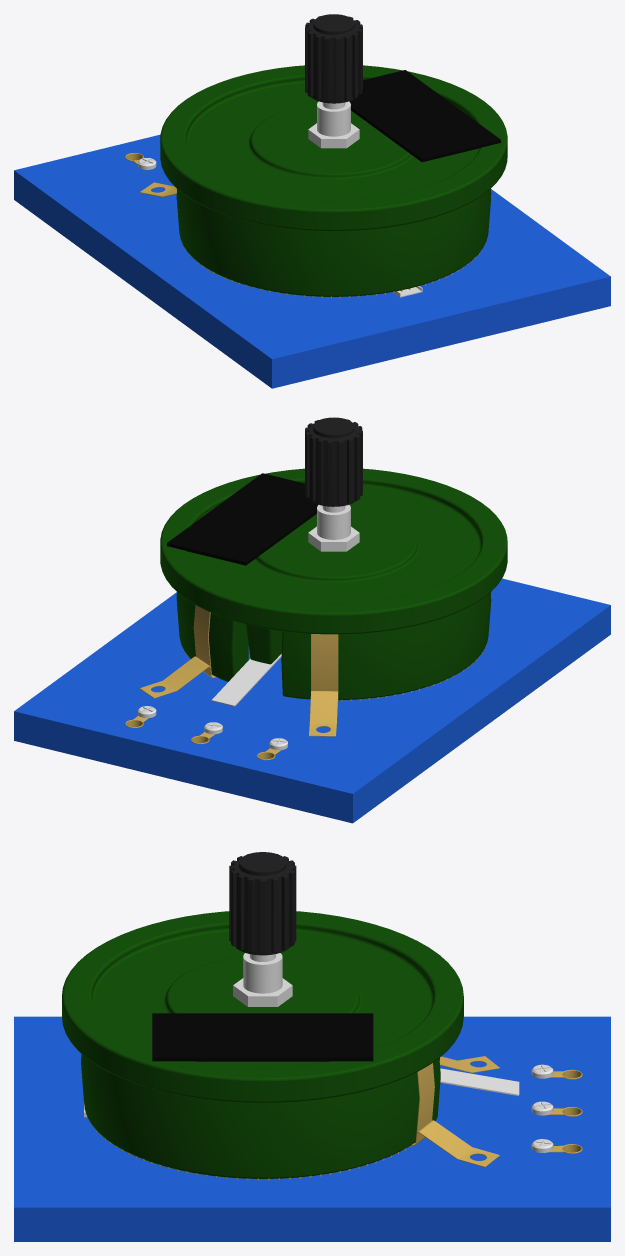
The model's file is reohord.fbx.
3 renders of one model, top to bottom at view 1: azimuth 30°, elevation 25°; view 2: azimuth 150°, elevation 25°; view 3: azimuth 270°, elevation 25°, orthographic. The views are drawn at different scales.
Visible parts, largest first — view 1: Body, Screen, Knob; view 2: Body, Screen, Knob; view 3: Body, Screen, Knob.
Boxes of the visible parts, <box> form: Body: <box>14,65,610,388</box>; Screen: <box>349,70,500,162</box>; Knob: <box>305,14,422,297</box>; Body: <box>14,468,610,823</box>; Screen: <box>167,473,318,565</box>; Knob: <box>305,417,362,539</box>; Body: <box>14,911,610,1241</box>; Screen: <box>152,1013,373,1061</box>; Knob: <box>84,852,296,1117</box>.
Size of the model in its own units: 9.01 by 6.25 by 11.89.
